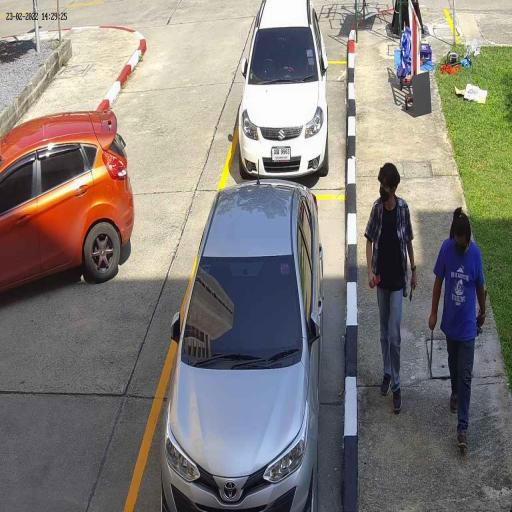car: (158, 178, 326, 512), (0, 106, 137, 292), (237, 0, 330, 182)
